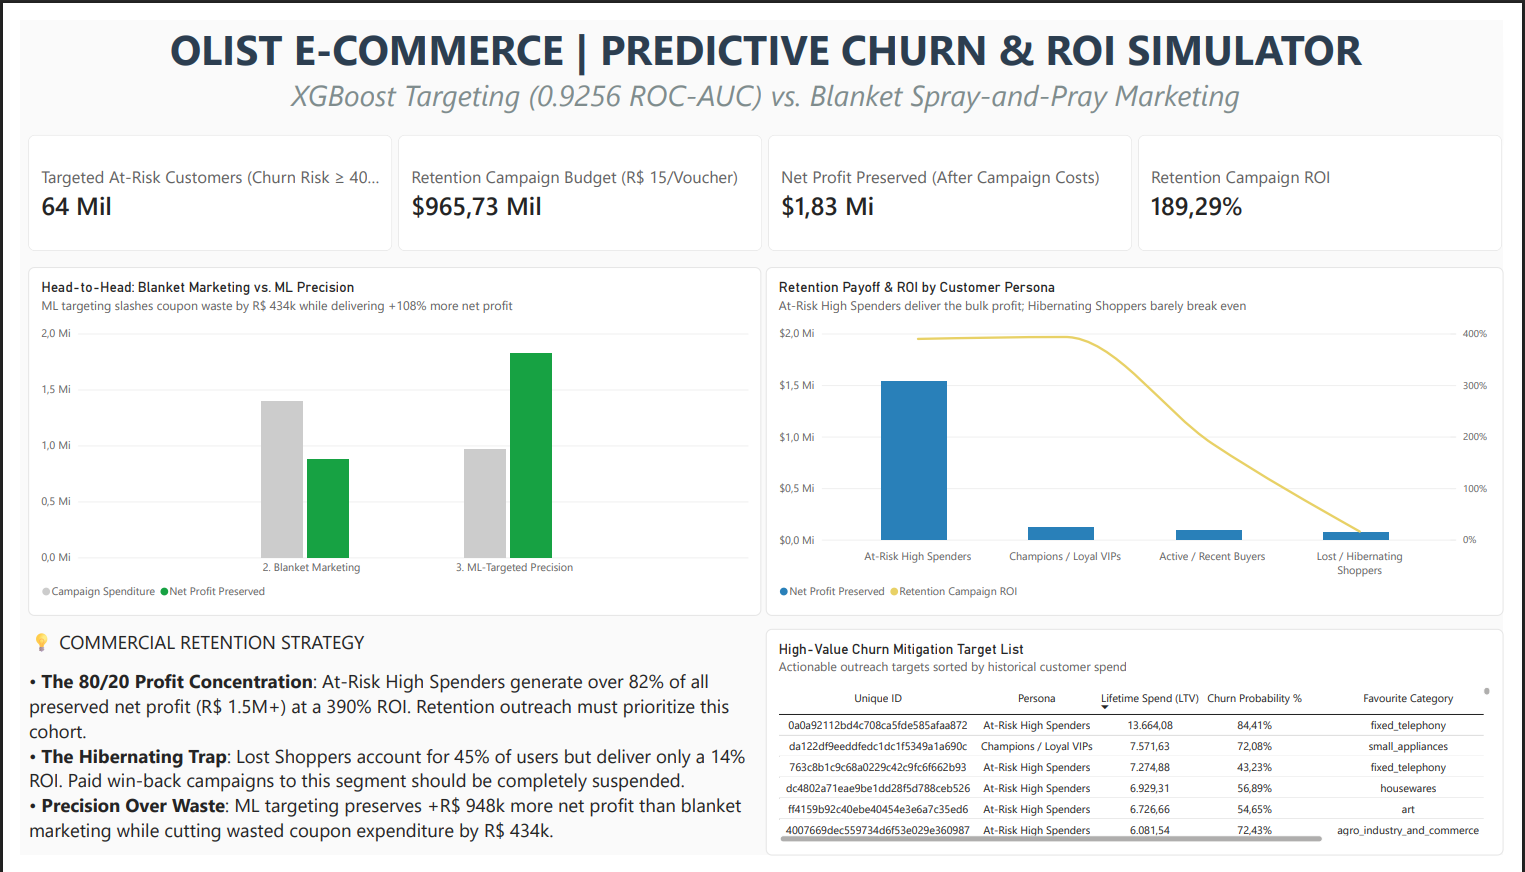

What the dashboard file says about the page in this screenshot:
{"tool":"powerbi","page":{"name":"Churn & ROI Simulator","canvas":[1920,1080],"ordinal":2},"visuals":[{"type":"textbox","box":[10.3,0,1910.1,148.2],"z":0},{"type":"textbox","box":[10.9,787.2,948.3,293.2],"z":1000},{"type":"cardVisual","fields":{"Data":["_measures.customers_at_risk","_measures.campaign_cost","_measures.net_profit_preserved","_measures.retention_roi"]},"box":[10,148.4,1910,150],"z":2000},{"type":"clusteredColumnChart","title":"Head-to-Head: Blanket Marketing vs. ML Precision","fields":{"Category":["dim_strategy_comparison.strategy"],"Y":["Sum(dim_strategy_comparison.campaign_spend)","Sum(dim_strategy_comparison.net_profit_preserved)"]},"box":[10.3,319,948.9,450.8],"z":3000},{"type":"lineClusteredColumnComboChart","title":"Retention Payoff & ROI by Customer Persona","fields":{"Category":["dim_customers.persona"],"Y":["_measures.net_profit_preserved"],"Y2":["_measures.retention_roi"]},"box":[965.4,319,955.1,450.8],"z":4000},{"type":"tableEx","title":"High-Value Churn Mitigation Target List","fields":{"Values":["dim_customers.customer_unique_id","dim_customers.persona","dim_customers.total_spend","dim_customers.churn_probability","dim_customers.favorite_category","dim_customers.action_plan"]},"box":[965,787,955,293],"z":5000}]}

Visuals, with their boxes in screenshot pixels (x1, y1, x2, y2), scaled from the page's 1920x1080 canvas onto the 1525x872 screenshot:
textbox: box=[8, 0, 1524, 120]
textbox: box=[9, 636, 762, 871]
cardVisual - _measures.customers_at_risk x _measures.campaign_cost: box=[8, 120, 1524, 241]
"Head-to-Head: Blanket Marketing vs. ML Precision" clusteredColumnChart: box=[8, 258, 762, 622]
"Retention Payoff & ROI by Customer Persona" lineClusteredColumnComboChart: box=[767, 258, 1524, 622]
"High-Value Churn Mitigation Target List" tableEx: box=[766, 635, 1524, 871]
